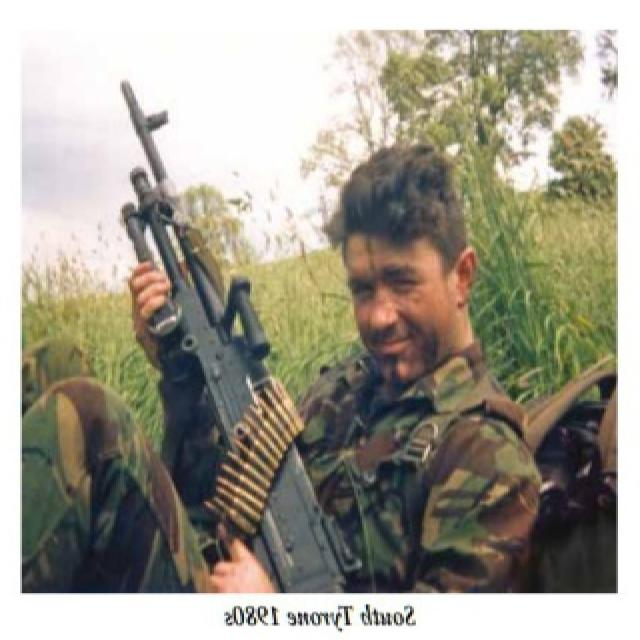rifle: (113, 71, 367, 595)
